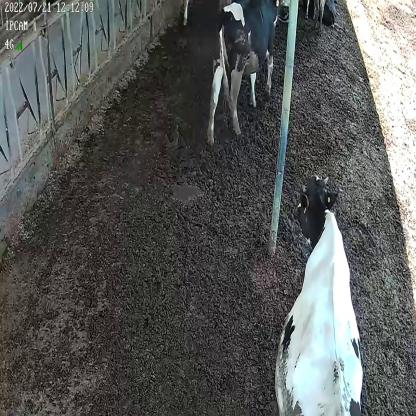cow: (274, 172, 364, 415), (209, 1, 281, 145)
